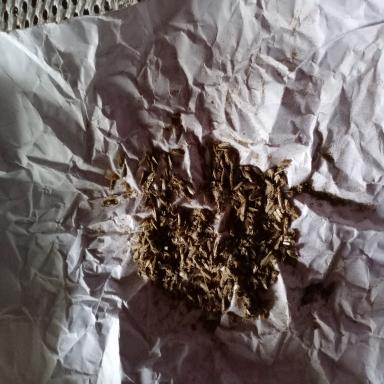pbw: (256, 287, 266, 304), (233, 260, 245, 273), (156, 194, 168, 207), (144, 170, 156, 183), (286, 248, 300, 259), (248, 285, 256, 303), (248, 192, 262, 202), (160, 216, 174, 226), (260, 255, 272, 266), (170, 148, 183, 158), (264, 167, 274, 180), (144, 151, 152, 167), (148, 174, 157, 188), (186, 182, 195, 196), (148, 240, 157, 254), (277, 192, 284, 210), (248, 274, 259, 285), (172, 173, 182, 185), (142, 193, 150, 208), (274, 236, 282, 250), (146, 196, 153, 212), (220, 272, 227, 288), (263, 184, 274, 194), (202, 224, 212, 235), (182, 191, 192, 202), (249, 236, 260, 246), (148, 186, 158, 197), (188, 245, 198, 256), (185, 255, 195, 266), (212, 239, 218, 257), (226, 266, 235, 278), (138, 171, 146, 184), (242, 173, 252, 183), (140, 243, 150, 253), (233, 181, 243, 191), (229, 170, 234, 190), (171, 287, 180, 298), (118, 152, 125, 166), (168, 154, 174, 170), (273, 210, 281, 222), (198, 208, 206, 220), (247, 205, 259, 213), (240, 200, 246, 216), (136, 266, 144, 278), (222, 284, 229, 297), (201, 271, 211, 280), (164, 166, 170, 181), (174, 244, 180, 259), (276, 161, 291, 167), (199, 282, 209, 291), (137, 157, 145, 168), (201, 259, 209, 270), (229, 198, 240, 206), (196, 237, 207, 245), (131, 242, 142, 250), (151, 154, 159, 165), (188, 208, 199, 216), (171, 236, 182, 244), (187, 236, 193, 250), (149, 160, 155, 174), (216, 286, 223, 298), (169, 202, 175, 216), (225, 292, 232, 304), (220, 296, 225, 312), (102, 200, 112, 208), (266, 201, 274, 211), (268, 205, 276, 215), (192, 258, 200, 268), (121, 164, 126, 180), (199, 247, 207, 257), (179, 252, 184, 268), (224, 151, 230, 164), (206, 239, 212, 252), (141, 233, 147, 246), (251, 247, 258, 258), (203, 293, 214, 300), (158, 263, 169, 270), (272, 174, 280, 183), (275, 168, 284, 176), (163, 277, 171, 286), (244, 184, 256, 190), (173, 275, 179, 287), (274, 222, 282, 231), (284, 216, 288, 234), (222, 166, 226, 184), (265, 199, 270, 213), (269, 276, 276, 286), (276, 208, 283, 218), (187, 293, 194, 303), (240, 165, 250, 172), (243, 242, 253, 249), (140, 219, 150, 226), (215, 146, 229, 151), (197, 293, 202, 306), (162, 152, 167, 165), (270, 269, 278, 277), (253, 167, 261, 175), (166, 268, 174, 276), (272, 232, 280, 240), (280, 178, 288, 186), (160, 251, 169, 258), (178, 271, 187, 278), (212, 265, 221, 272), (125, 185, 131, 195), (218, 142, 230, 147), (212, 169, 218, 179), (107, 194, 119, 199), (152, 256, 156, 271), (262, 280, 268, 290), (208, 253, 213, 265), (218, 181, 224, 191), (213, 190, 221, 197), (212, 296, 219, 304), (152, 207, 156, 221), (176, 225, 184, 232), (245, 252, 250, 263), (108, 198, 117, 204), (144, 259, 150, 268), (252, 265, 258, 274), (232, 195, 241, 201), (161, 180, 166, 190), (213, 146, 218, 156), (178, 282, 183, 292), (177, 183, 184, 190), (292, 211, 299, 218), (271, 258, 278, 265), (133, 251, 139, 259), (177, 213, 181, 225), (152, 222, 158, 230), (264, 179, 272, 185), (246, 223, 254, 229), (228, 254, 232, 266), (260, 244, 266, 252), (284, 198, 289, 207), (149, 263, 153, 274), (240, 212, 244, 223), (262, 224, 268, 231), (232, 158, 236, 168), (282, 240, 290, 245), (284, 235, 292, 240), (141, 252, 147, 258), (237, 192, 243, 198), (236, 208, 240, 217), (260, 238, 266, 244), (216, 201, 220, 210), (264, 247, 269, 254), (220, 205, 225, 212), (109, 179, 112, 190), (184, 246, 188, 254), (281, 206, 285, 213), (274, 186, 278, 192), (268, 219, 270, 228), (268, 250, 272, 254), (218, 208, 220, 214)
